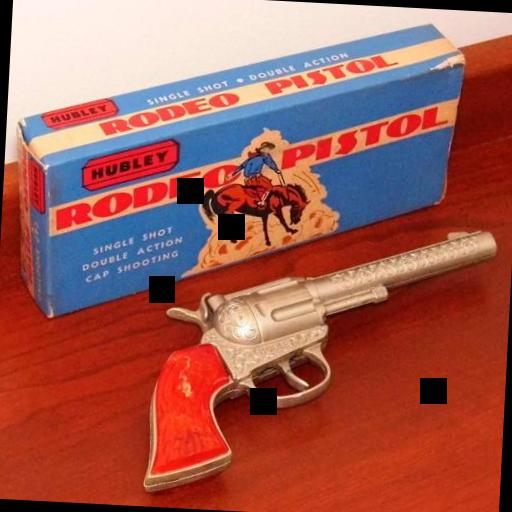Handgun: (128, 200, 499, 512)
